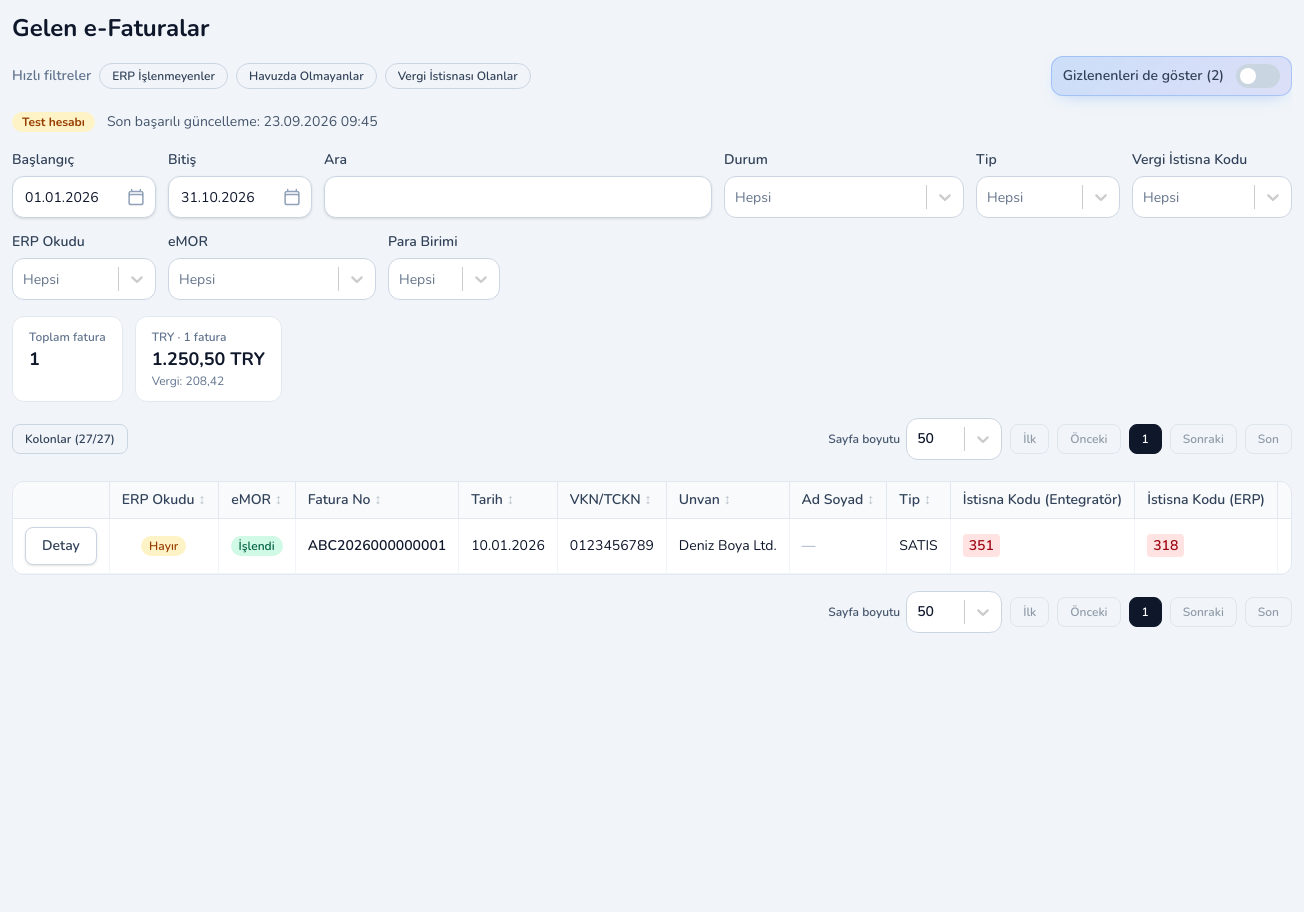
Test: EFaturalarPage › sayfalama tablonun üstünde ve altında var; varsayılan 50, biri değişince diğeri de değişir
The image size is (1304, 912).
Check: the text "Deniz Boya Ltd." is shown, box [679,536,777,556]
Check: the 1st text "50" is shown, box [917,429,934,448]
Press ArrowDown in the dropdown labelled "Sayfa boyutu 50", box [828,418,1002,460]
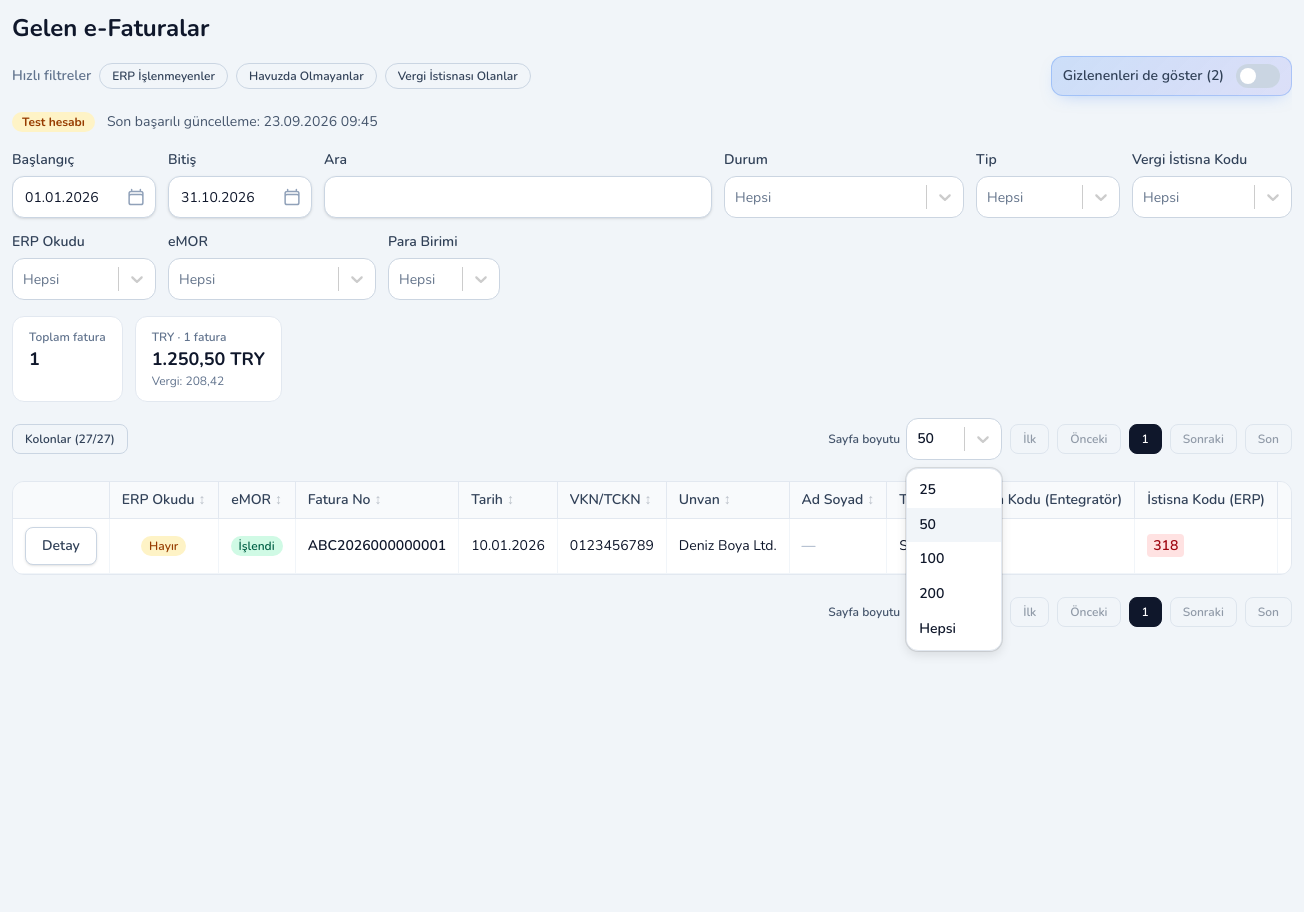
Click the option "100": (954, 560) [907,542,1001,577]
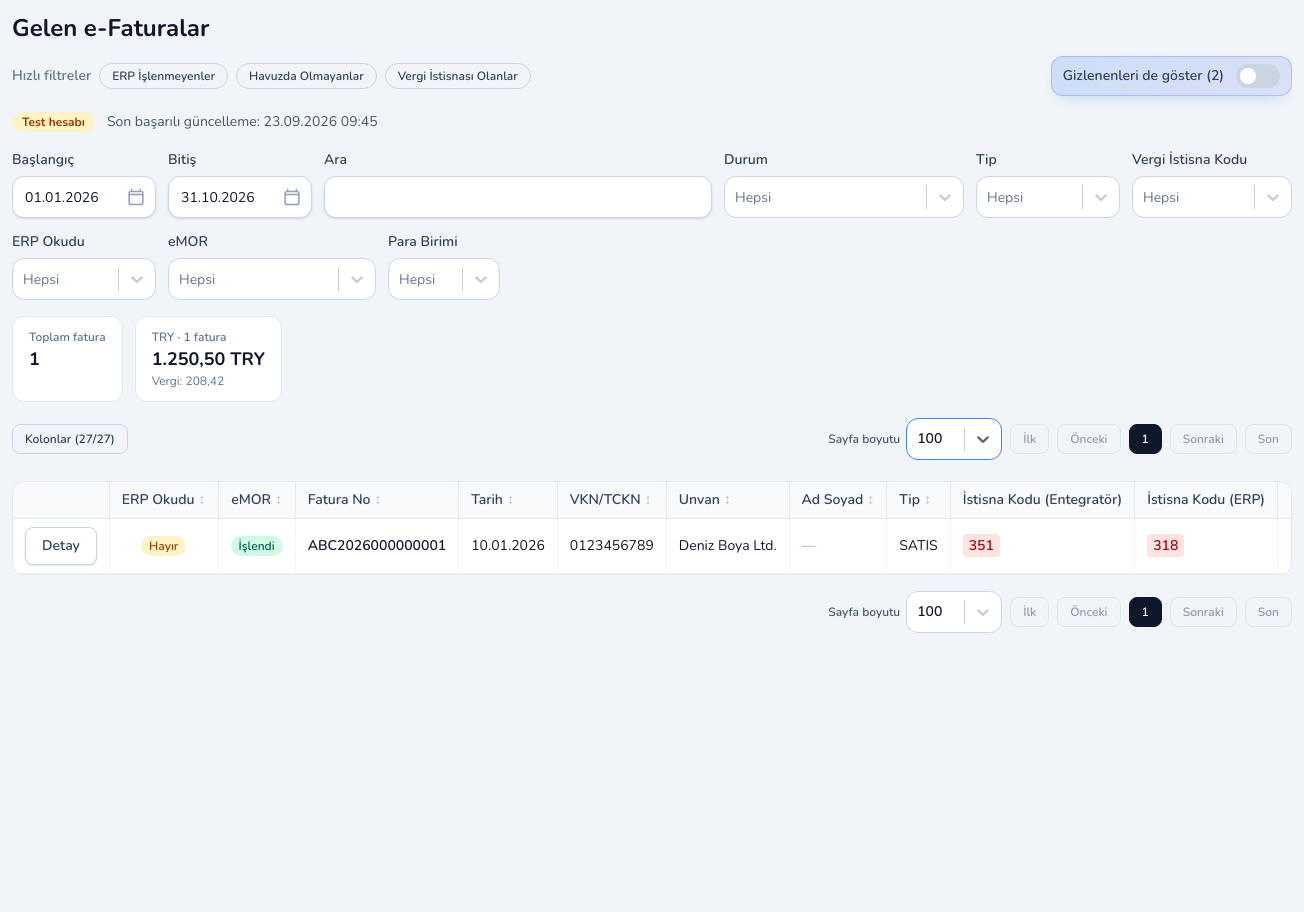
Check: the 2nd text "100" is shown, box [917,602,942,621]
